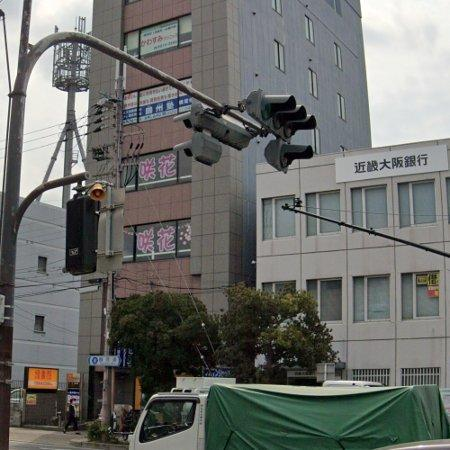traffic lights: (244, 90, 320, 140), (263, 139, 314, 174)
